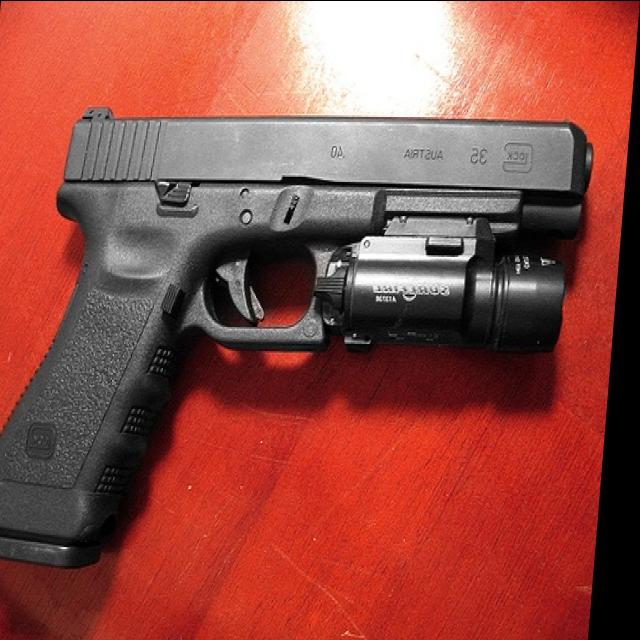handgun: (0, 102, 599, 568)
